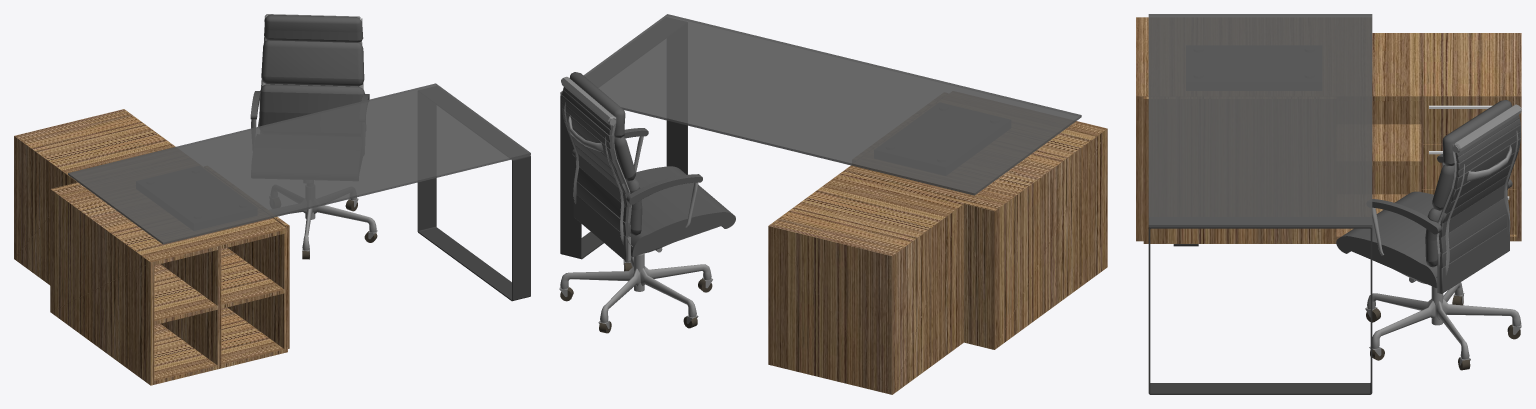
File: desk-200-drawers-right.glb
The picture shows the model from 3 angles, left to right: view 1: azimuth 30°, elevation 25°; view 2: azimuth 150°, elevation 25°; view 3: azimuth 270°, elevation 25°; orthographic projection. The views are drawn at different scales.
Parts seen in each view (by area): view 1: Geom3D (×3), Geom3D_ (×2); view 2: Geom3D (×4), Geom3D_ (×2); view 3: Geom3D (×4), Geom3D_ (×2).
Boxes of the visible parts, x1=… form: Geom3D (×3): x1=14, y1=83, x2=530, y2=385; Geom3D_ (×2): x1=250, y1=14, x2=377, y2=254; Geom3D (×4): x1=560, y1=14, x2=1107, y2=394; Geom3D_ (×2): x1=559, y1=72, x2=735, y2=328; Geom3D (×4): x1=1136, y1=14, x2=1521, y2=394; Geom3D_ (×2): x1=1336, y1=100, x2=1521, y2=365.
Size of the model in its own units: 2.1 by 1.03 by 1.54.
Materials: 8 (1 with a texture image).
